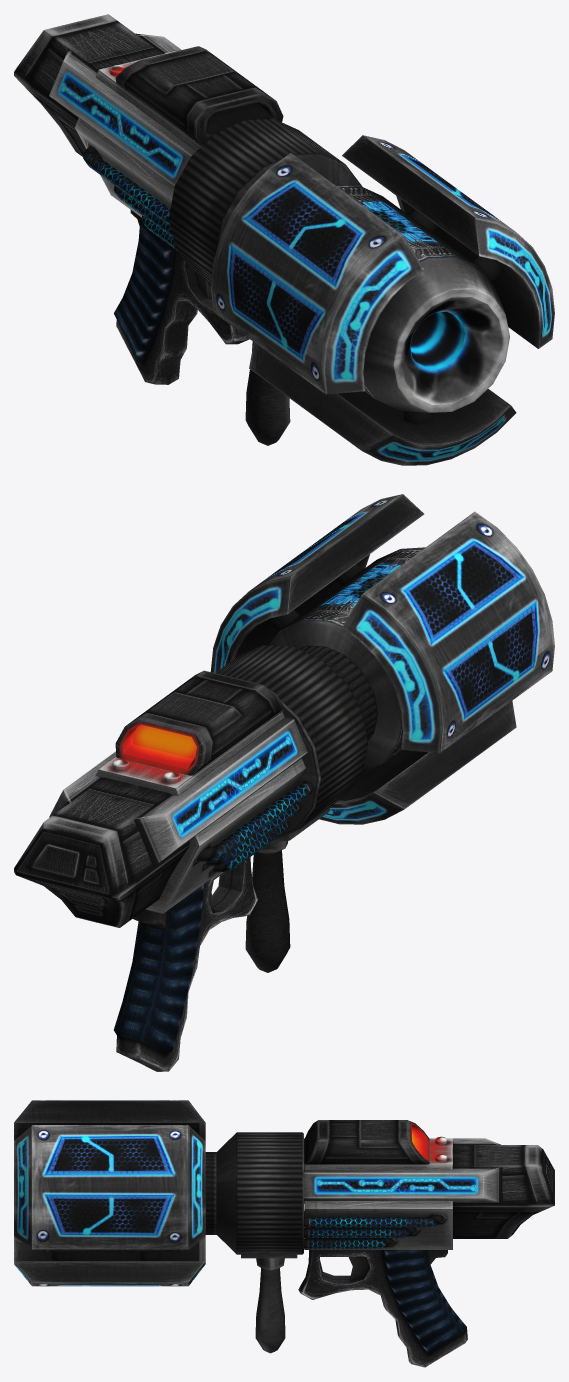
File: ForceCannon.fbx
3 views of the same model, one above another, from view 1: azimuth 30°, elevation 25°; view 2: azimuth 150°, elevation 25°; view 3: azimuth 270°, elevation 25° (orthographic). The views are drawn at different scales.
Parts seen in each view (by area): view 1: polySurface64, polySurface62; view 2: polySurface62, polySurface64; view 3: polySurface62, polySurface64.
Part boxes in pixels (x1=…): polySurface64: x1=210, y1=135, x2=554, y2=465; polySurface62: x1=14, y1=14, x2=362, y2=445; polySurface62: x1=14, y1=645, x2=377, y2=1071; polySurface64: x1=210, y1=494, x2=554, y2=824; polySurface62: x1=205, y1=1120, x2=554, y2=1367; polySurface64: x1=14, y1=1100, x2=205, y2=1286.
Bounding box in the file's own units: 0.317 × 0.4734 × 0.9181.
